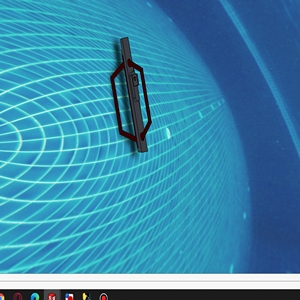submarine: (109, 36, 158, 152)
